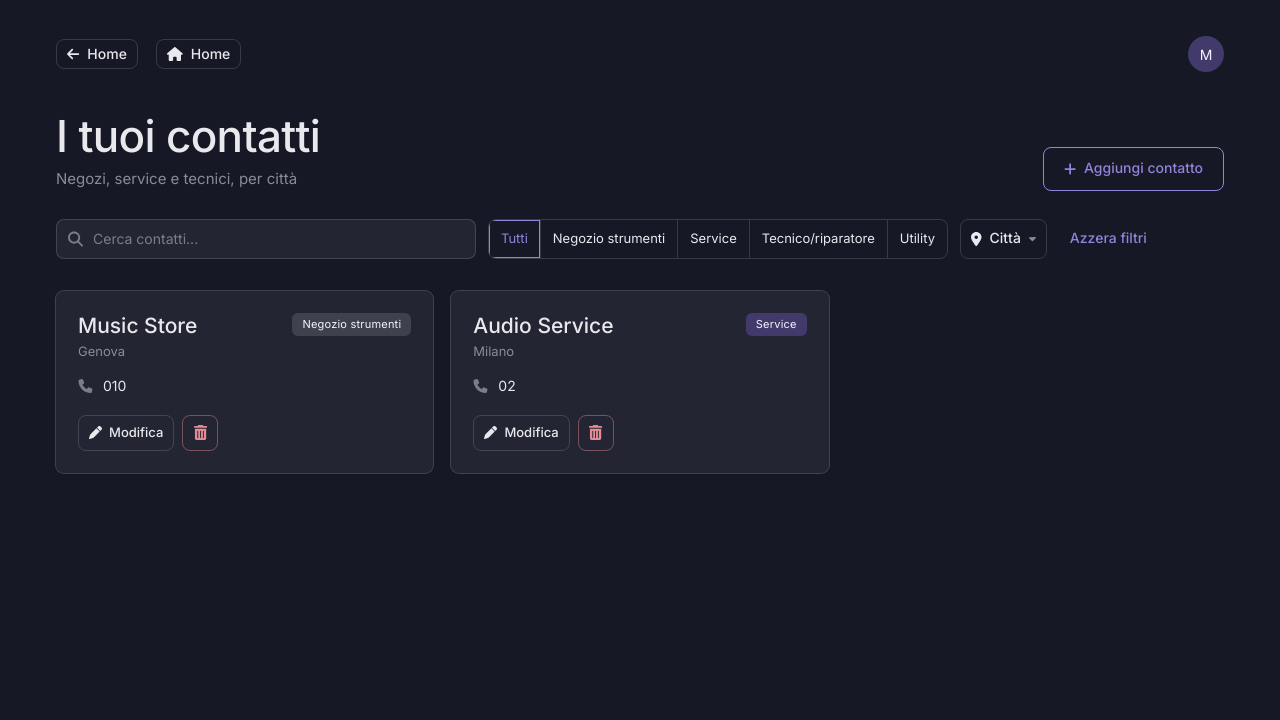
Test case: UsefulContacts › non salva senza categoria e lo segnala
The width and height of the screenshot is (1280, 720).
Check: the heading "Music Store" is shown, box [78,312,197,338]
Click the button "Aggiungi contatto". click: (1133, 168)
box: [1043,146,1224,190]
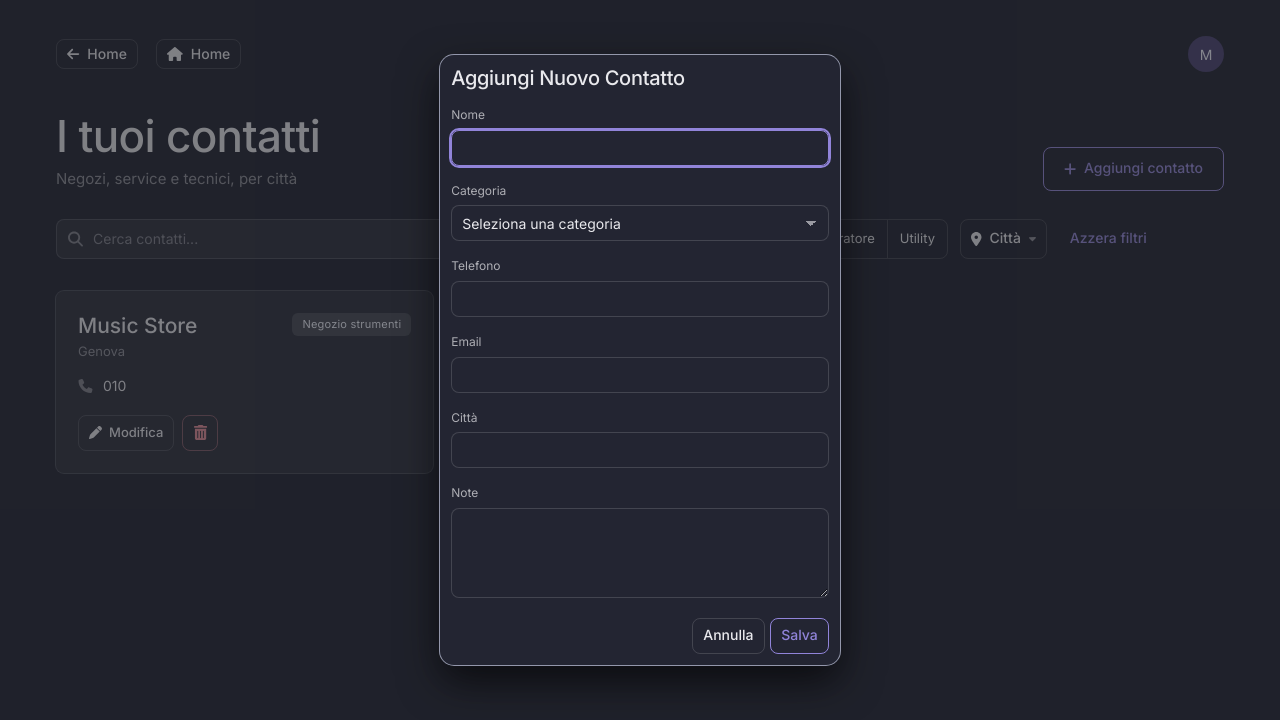
Type "Senza categoria" into the field labelled "Nome". click: (640, 148)
box: [451,130,829,166]
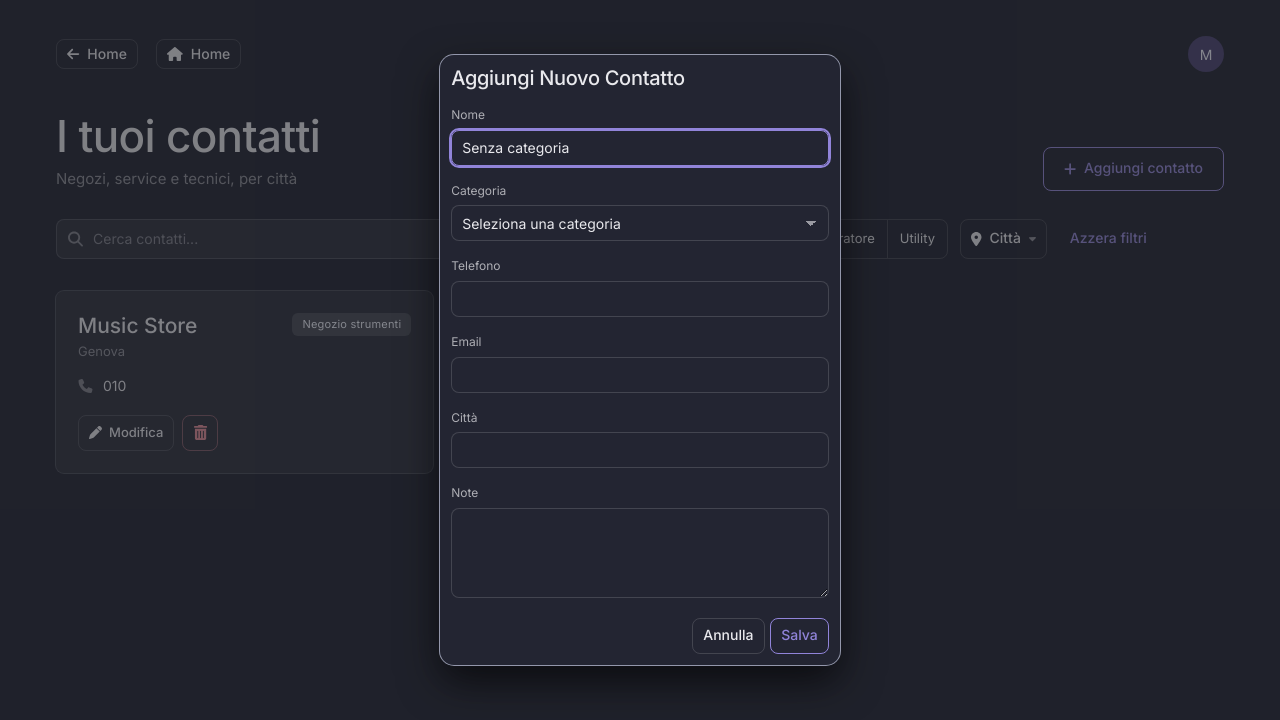
Click the button "Salva". click: (799, 636)
box: [770,618,829,654]
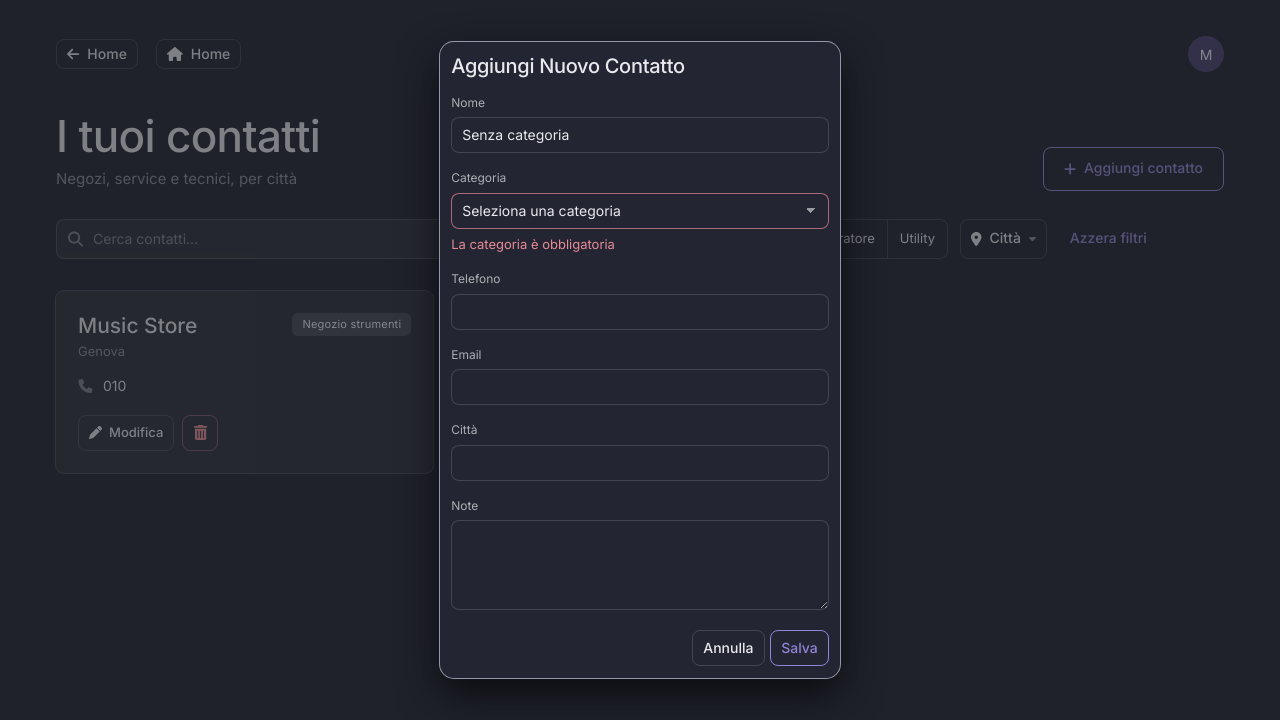
Check: the text "La categoria è obbligatoria" is shown, box [451,236,615,252]
